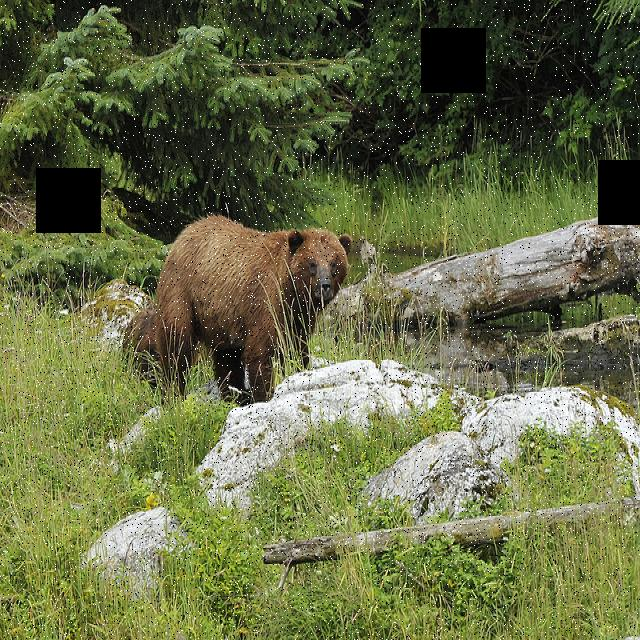Bear: (119, 206, 353, 410)
